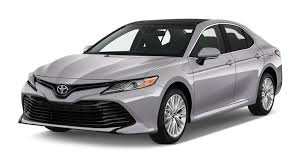Toyota: (23, 22, 272, 132)
